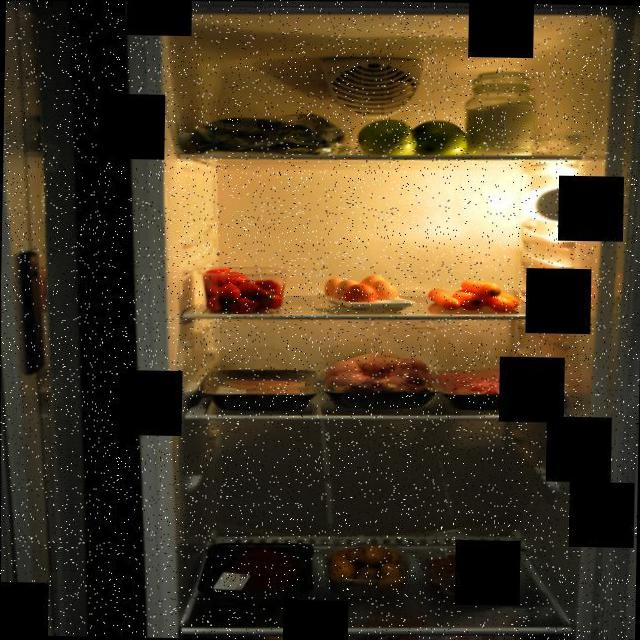Carne pollo: (320, 340, 439, 411), (199, 366, 318, 410)
Carne vacuno: (197, 540, 315, 610)
Gambas/Langostinos: (415, 544, 516, 598)
Huevos: (320, 270, 404, 312)
Manzana: (348, 114, 474, 157)
Patata: (322, 542, 410, 592)
Zanahoria: (422, 275, 527, 315)
